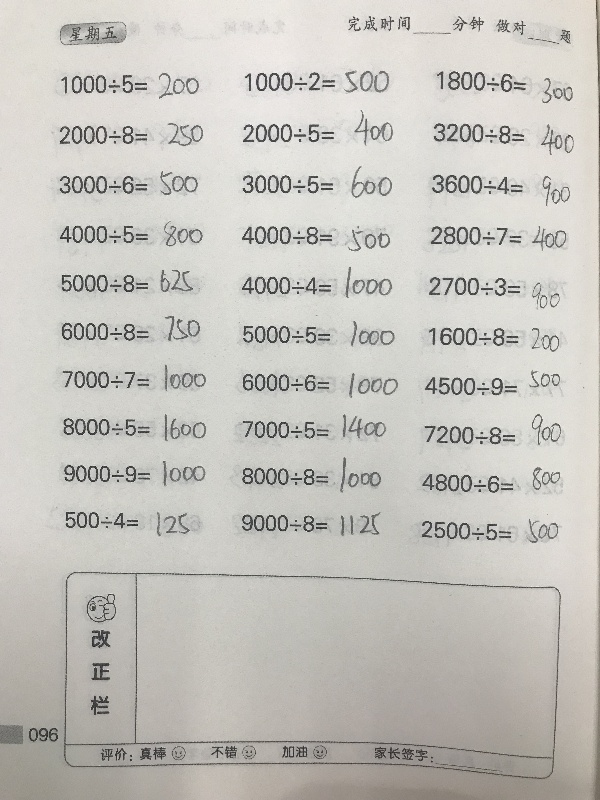equation: (238, 457, 384, 499), (433, 67, 573, 110), (238, 264, 396, 302), (429, 119, 577, 157), (240, 110, 393, 146), (238, 162, 395, 197), (60, 359, 207, 396), (426, 274, 564, 312), (427, 170, 572, 206), (237, 220, 394, 253), (420, 412, 565, 447), (57, 310, 204, 344), (60, 457, 210, 490), (58, 69, 203, 103), (56, 115, 205, 148), (59, 408, 207, 441), (239, 370, 399, 400), (239, 317, 399, 347), (235, 411, 389, 442), (427, 222, 571, 255), (237, 508, 384, 540), (61, 505, 197, 539), (418, 465, 565, 496), (242, 67, 393, 97), (56, 168, 202, 199), (417, 513, 561, 544), (58, 266, 205, 296), (421, 369, 565, 399), (425, 324, 565, 354), (56, 222, 205, 249)
